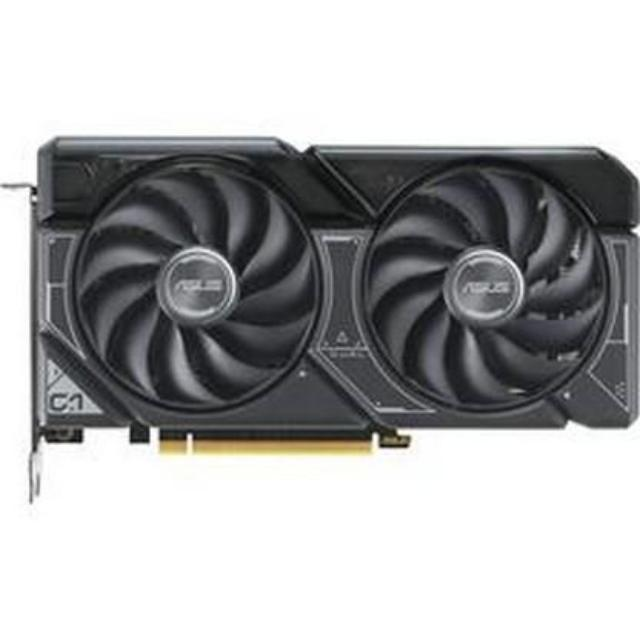GPU: (15, 127, 640, 456)
